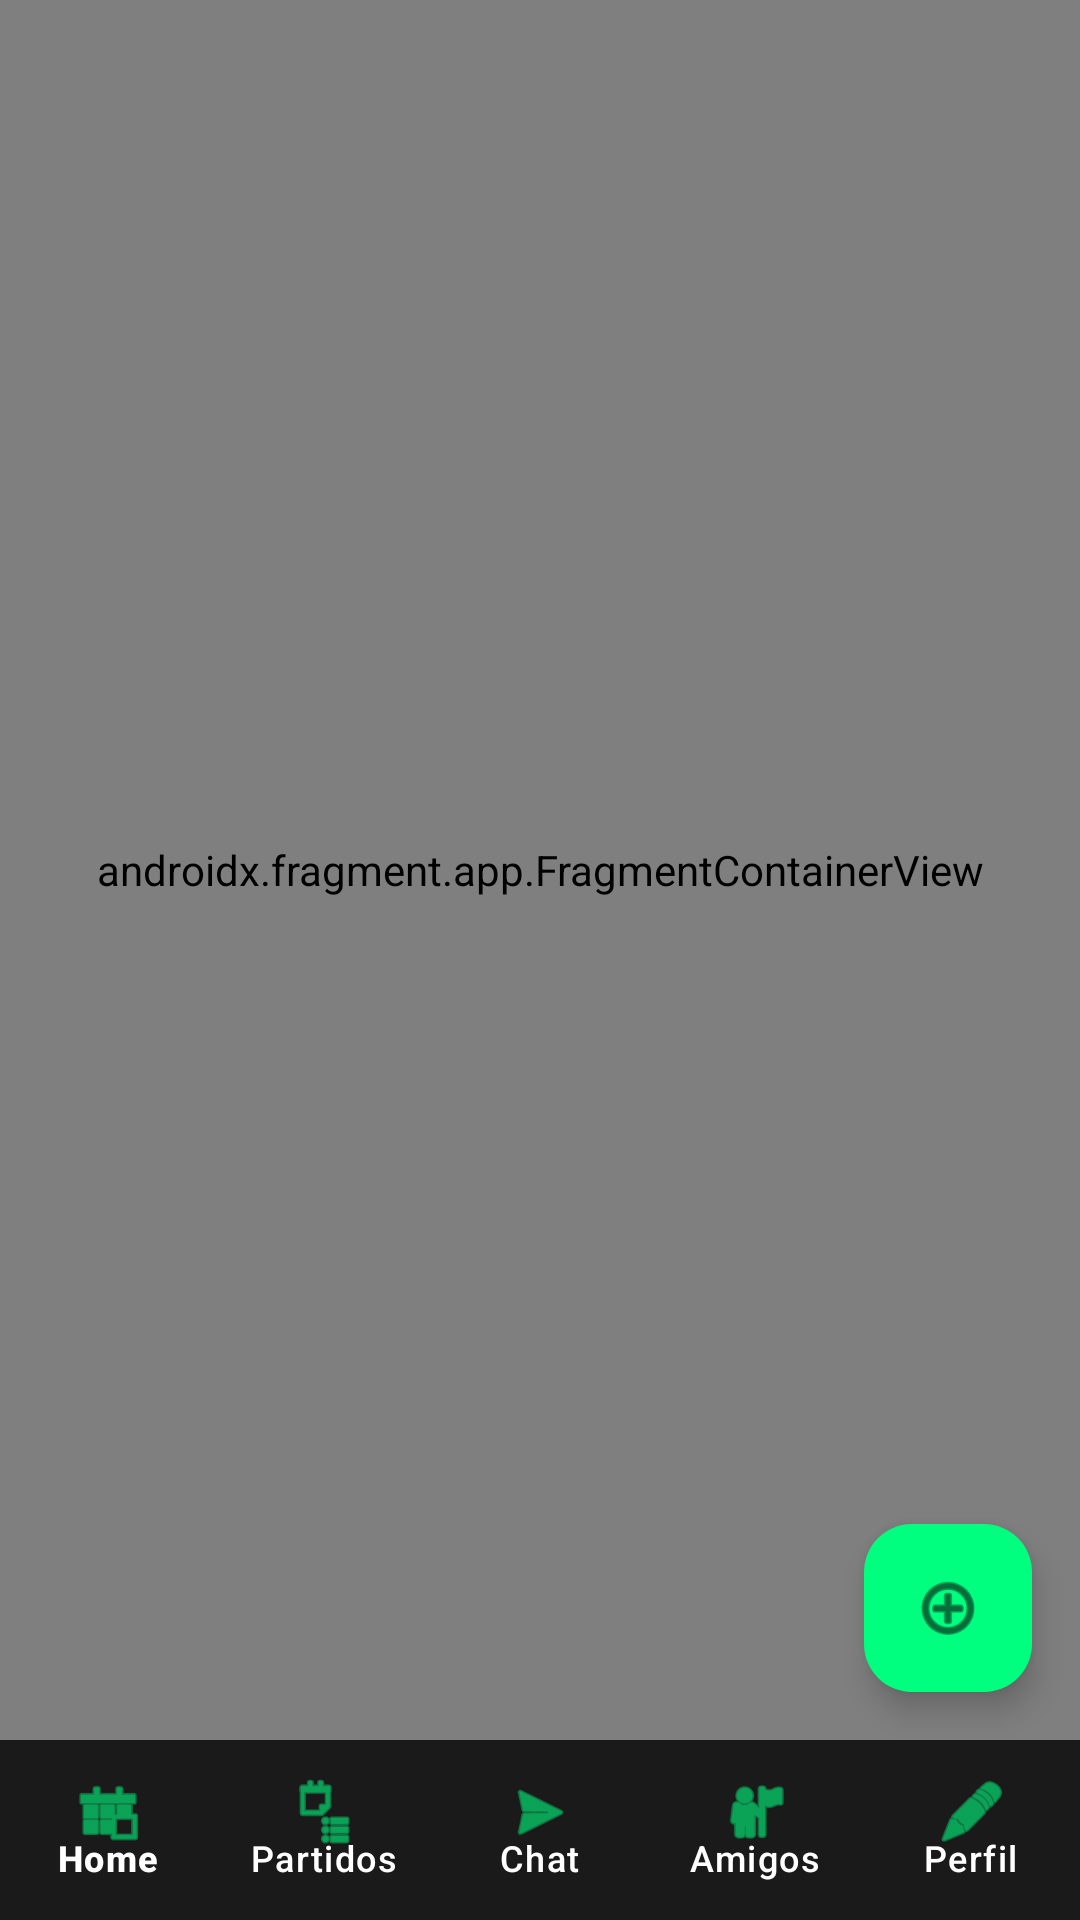

Locate icon controls on the screen. Image size 1080w x 1920h, boxes as box=[x1, y1, x2, y2].
add: box=[864, 1524, 1032, 1692]
